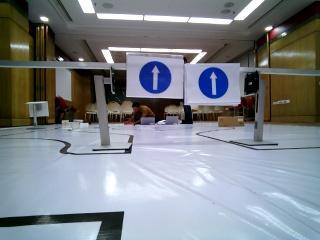straight: (188, 61, 237, 104), (129, 56, 182, 95)
